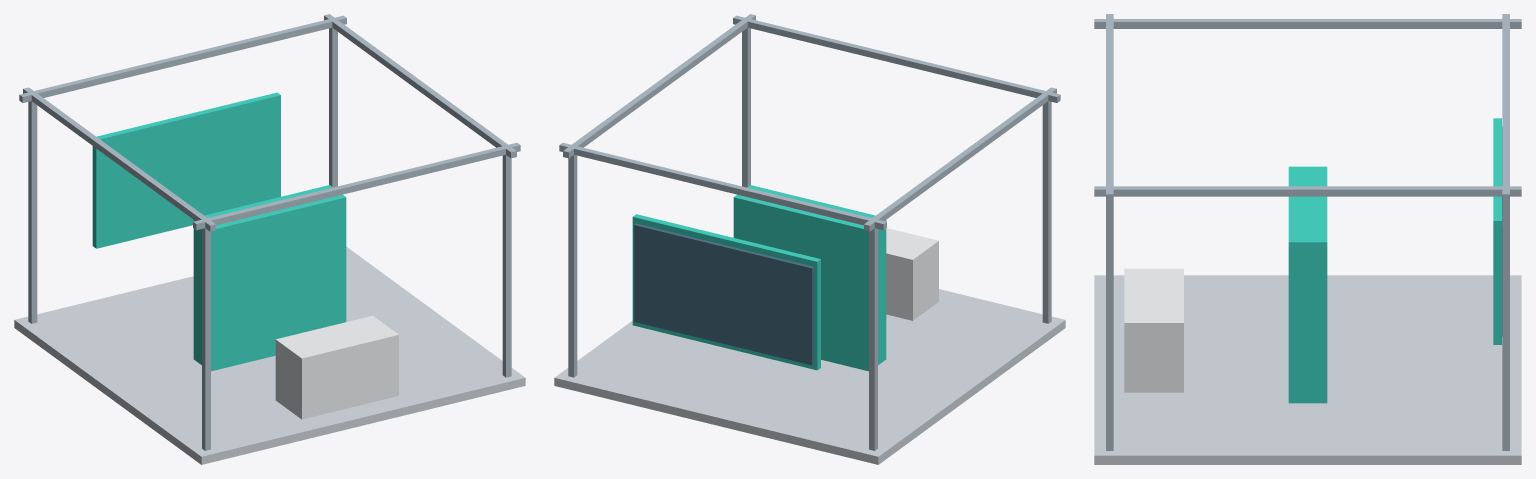
3 renders of one model, left to right at view 1: azimuth 30°, elevation 25°; view 2: azimuth 150°, elevation 25°; view 3: azimuth 270°, elevation 25°, orthographic. The views are drawn at different scales.
Visible parts, largest first — view 1: Exhibition Booth Concept; view 2: Exhibition Booth Concept; view 3: Exhibition Booth Concept.
Boxes of the visible parts, <box> form: Exhibition Booth Concept: <box>14,14,525,464</box>; Exhibition Booth Concept: <box>554,14,1065,464</box>; Exhibition Booth Concept: <box>1094,14,1521,464</box>.
Bounding box in the file's own units: 5 × 3.49 × 5.
